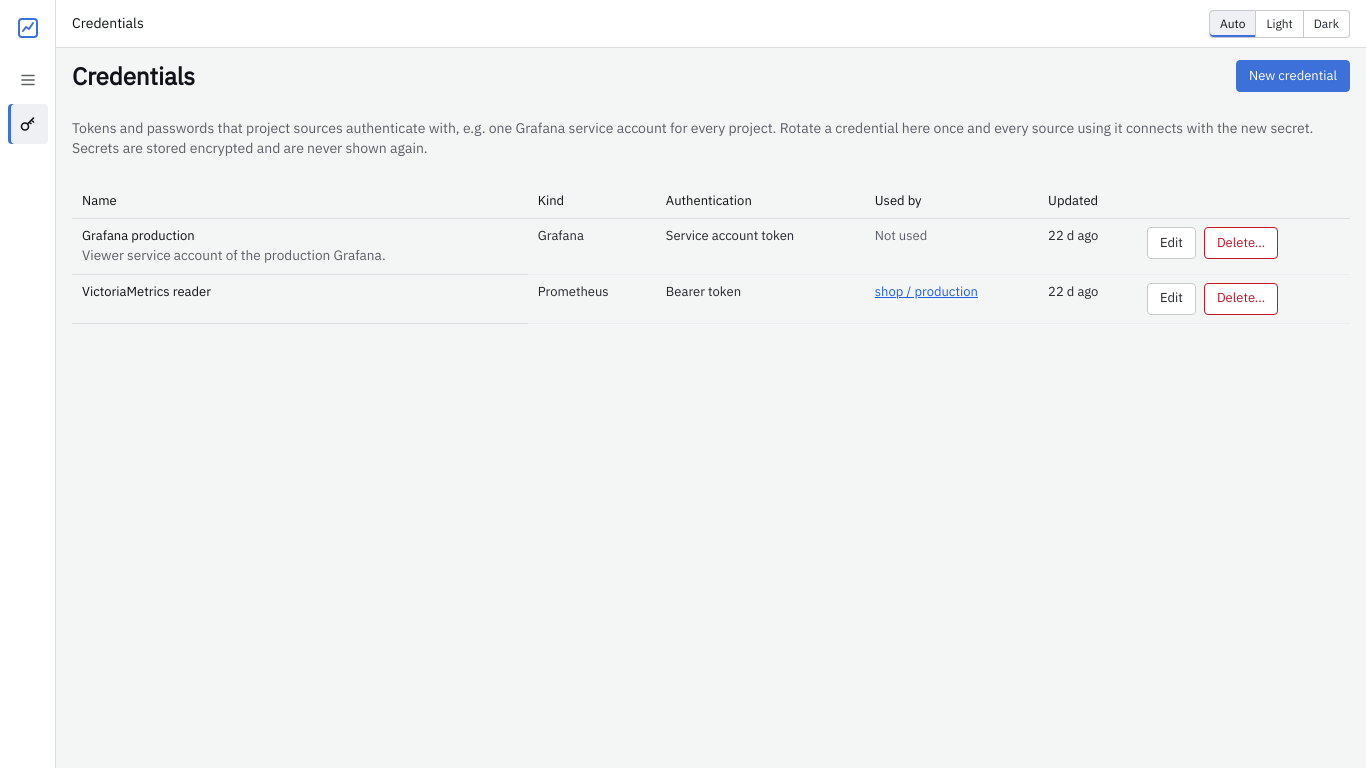
it: credentials › lists credentials with their projects and creates one
Expected: the text "Bearer token" is shown, [656, 274, 865, 323]
Expected: the text "Not used" is shown, [875, 227, 927, 244]
Step 1. Click the button "New credential" → point(1293, 76), box [1236, 60, 1350, 92]
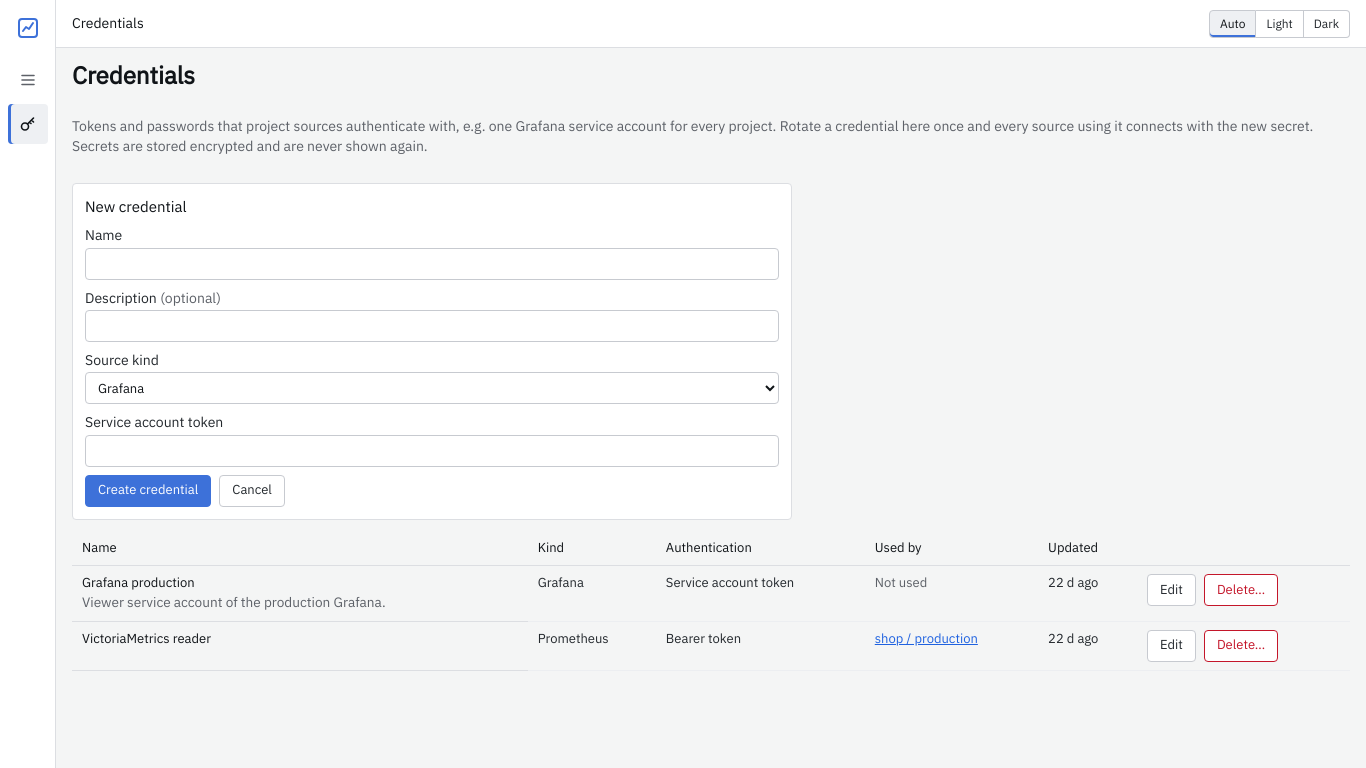
Step 2. Click the button "Create credential" → point(148, 490), box [85, 474, 211, 506]
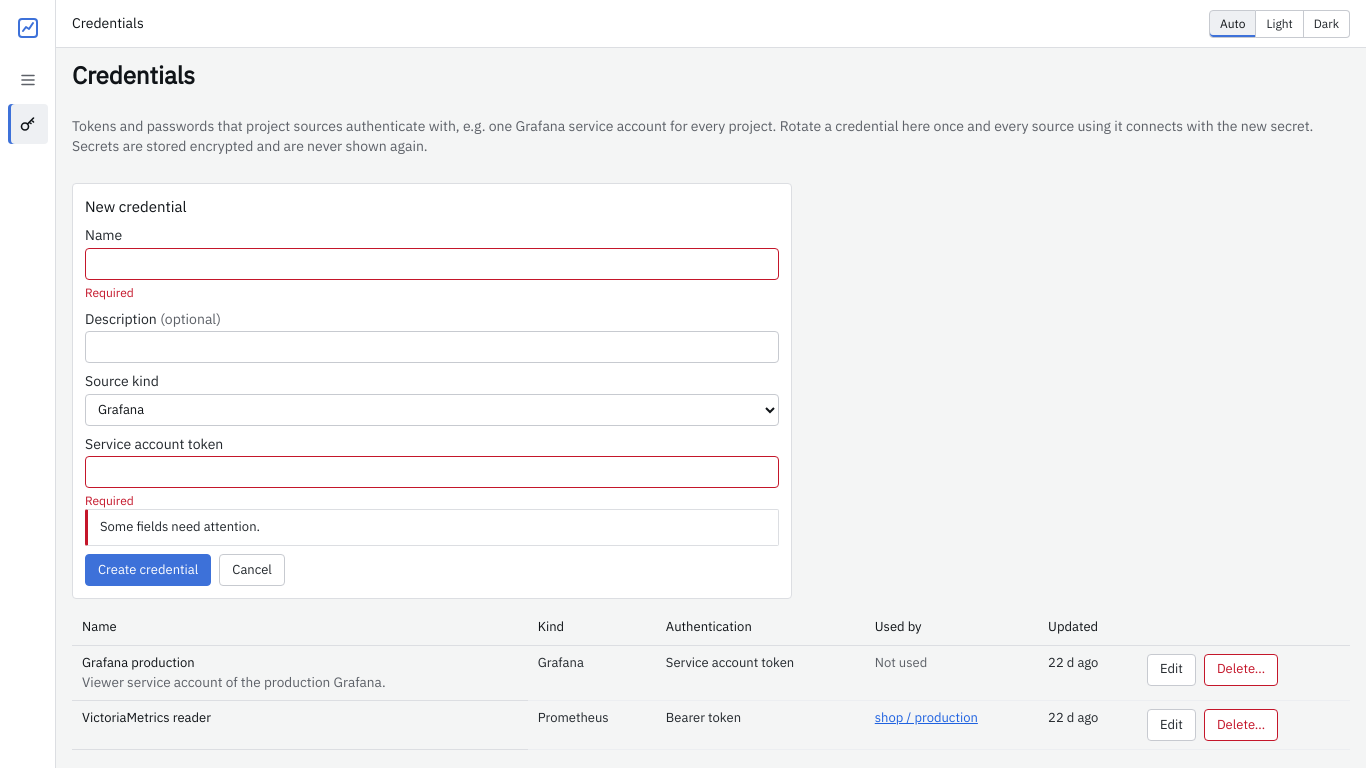
Result: the password field labelled "Service account token" is marked as invalid at [85, 456, 779, 488]
Step 3. Type " Sentry org " into the field labelled "Name" → point(432, 264), box [85, 248, 779, 280]
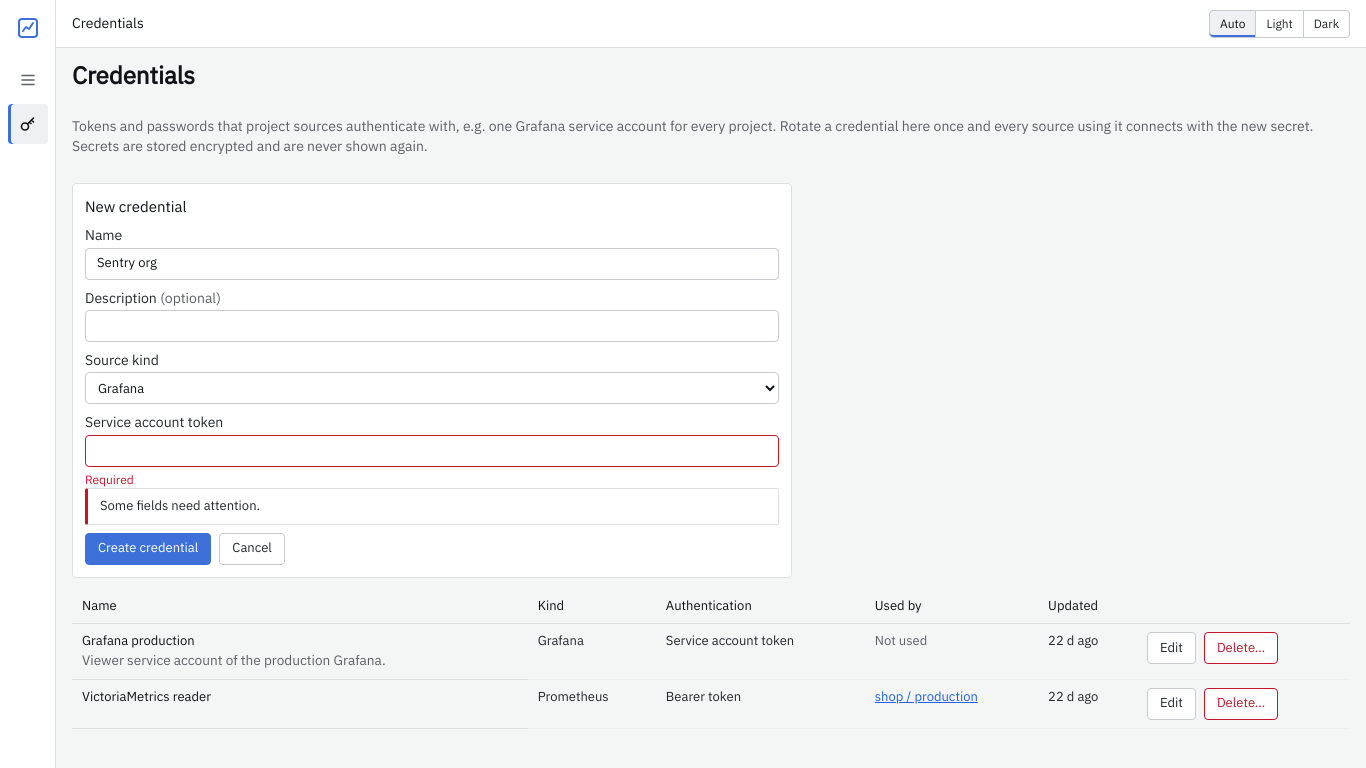
Step 4. Select "Sentry" in the dropdown labelled "Source kind" → point(432, 388), box [85, 372, 779, 404]
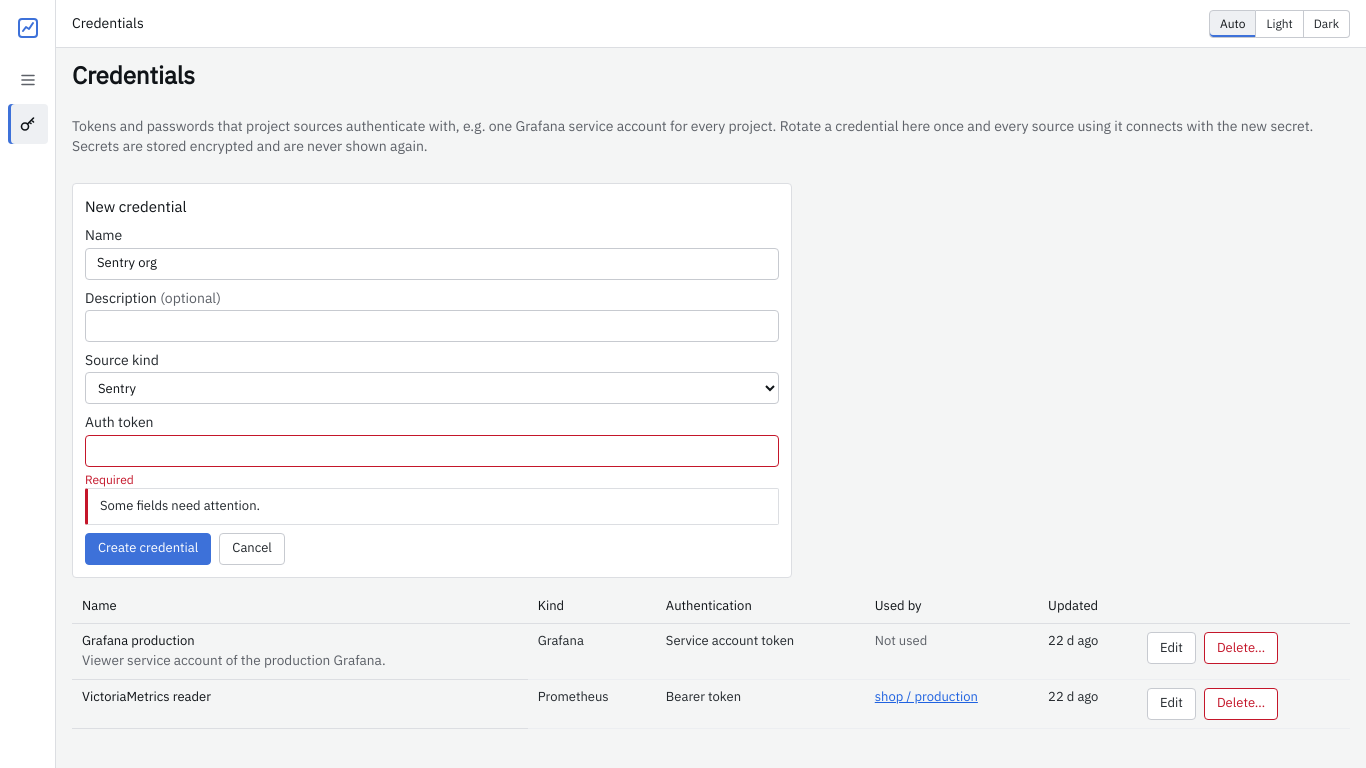
Step 5. Type "sntrys-shared" into the password field labelled "Auth token" → point(432, 450), box [85, 434, 779, 466]
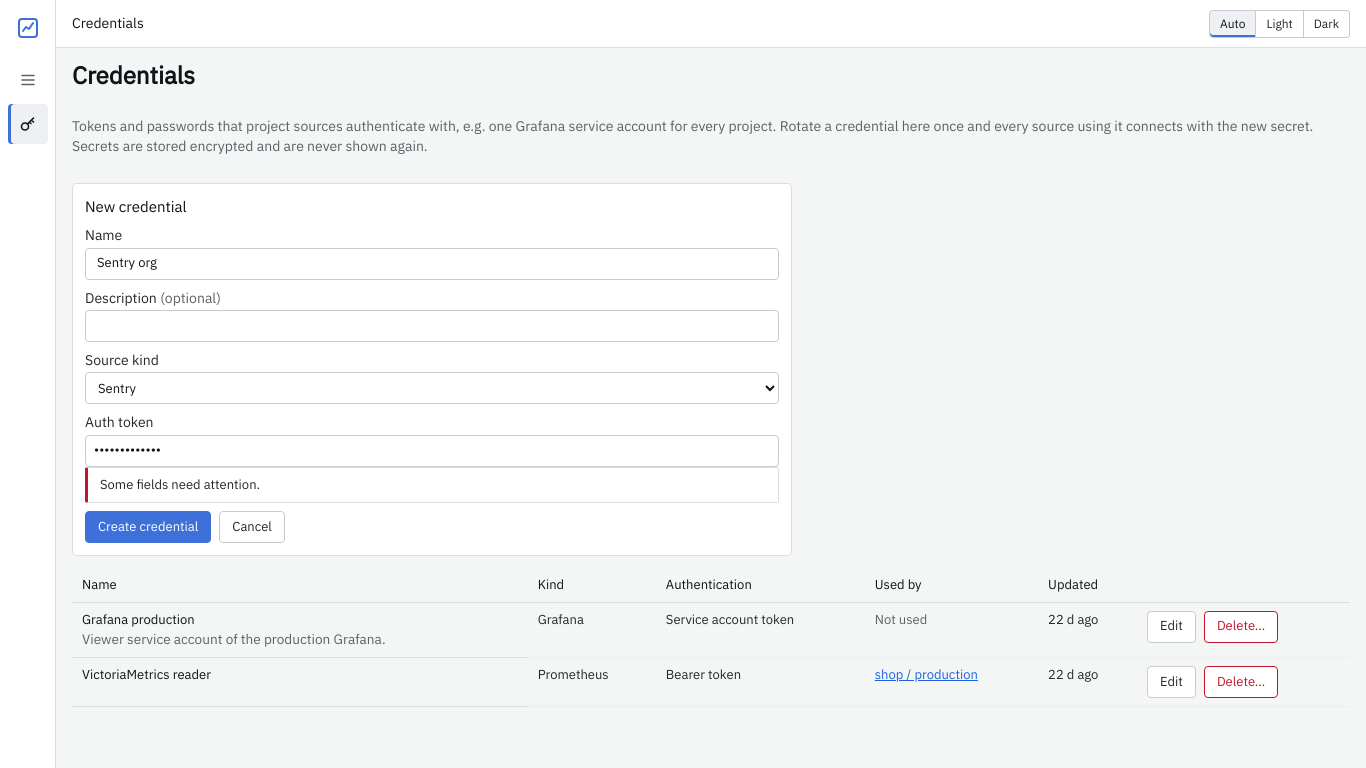
Step 6. Click the button "Create credential" → point(148, 527), box [85, 511, 211, 543]
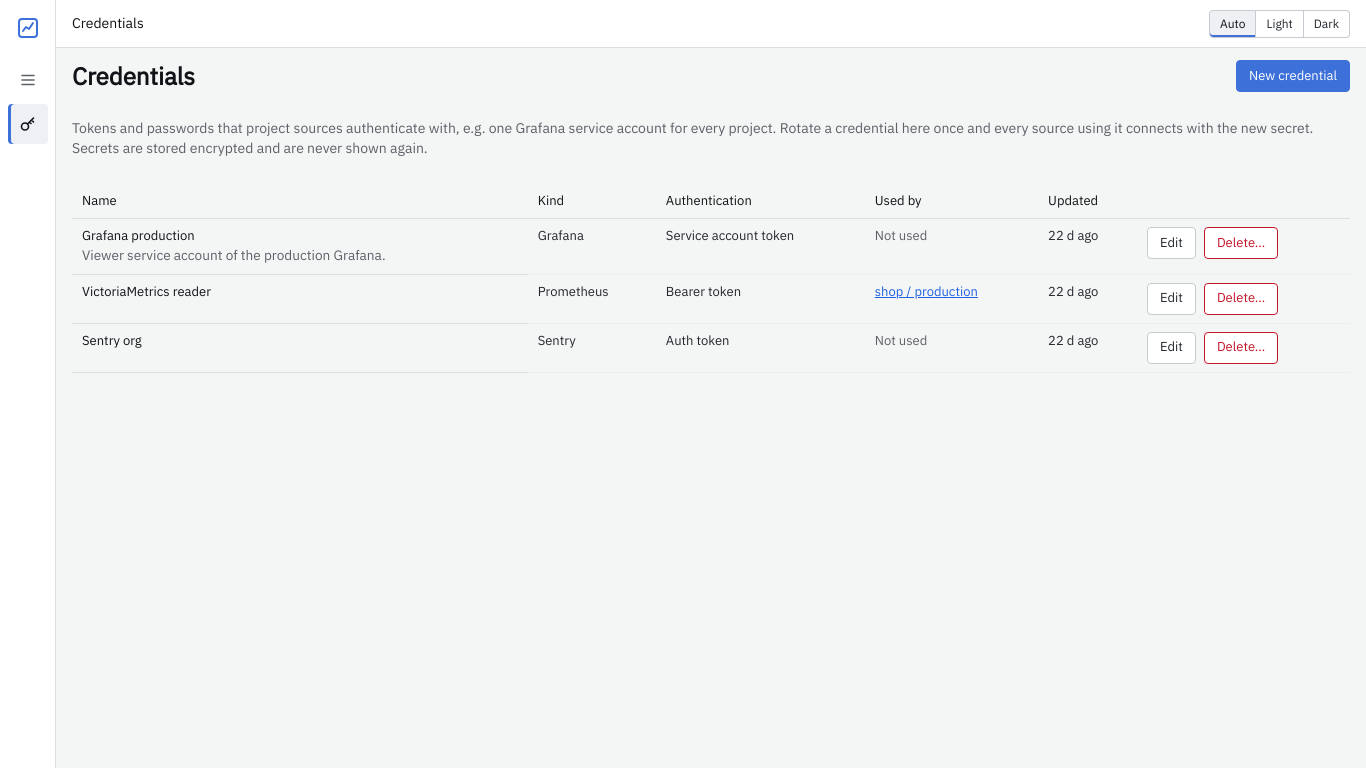
Result: the row "Sentry org Sentry Auth token Not used 22 d ago Edit Delete…" is shown at [72, 323, 1350, 372]
